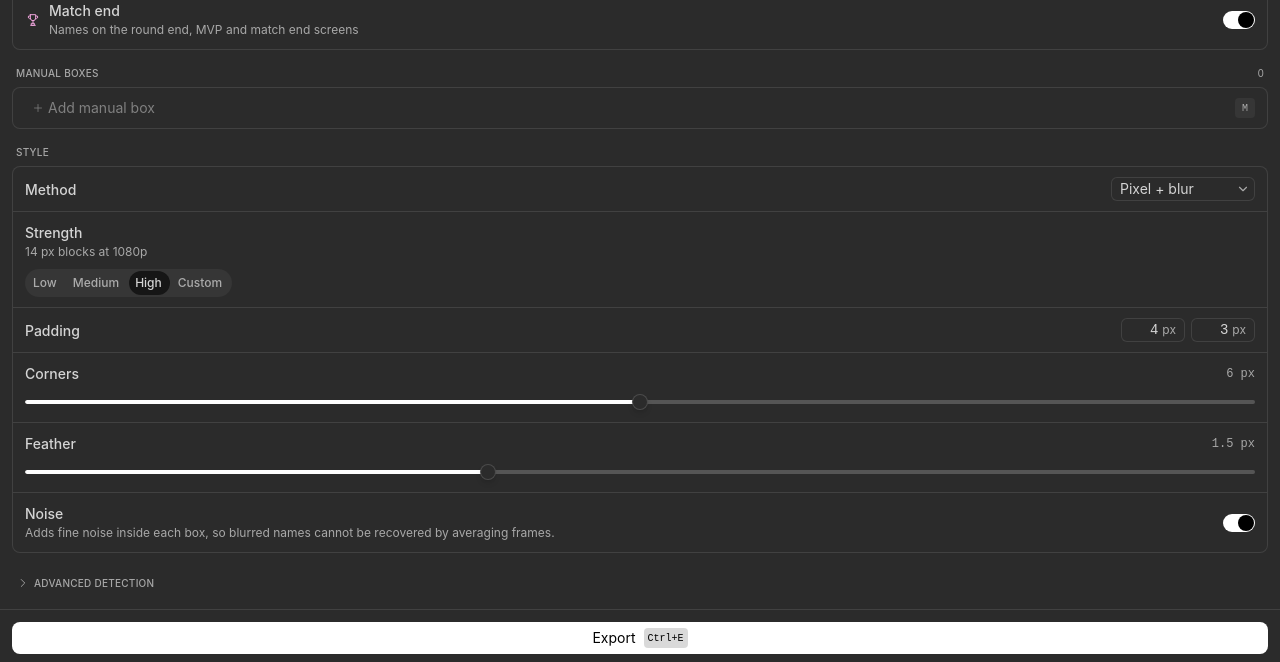
it: inspector › compares files nobody changed with the app defaults
(page scrolled)
expect the heading "Manual boxes" is shown: met, box [16, 66, 99, 81]
Click the switch below "1.5 px" at x=1239, y=522, box [1223, 514, 1255, 532]
(page scrolled)
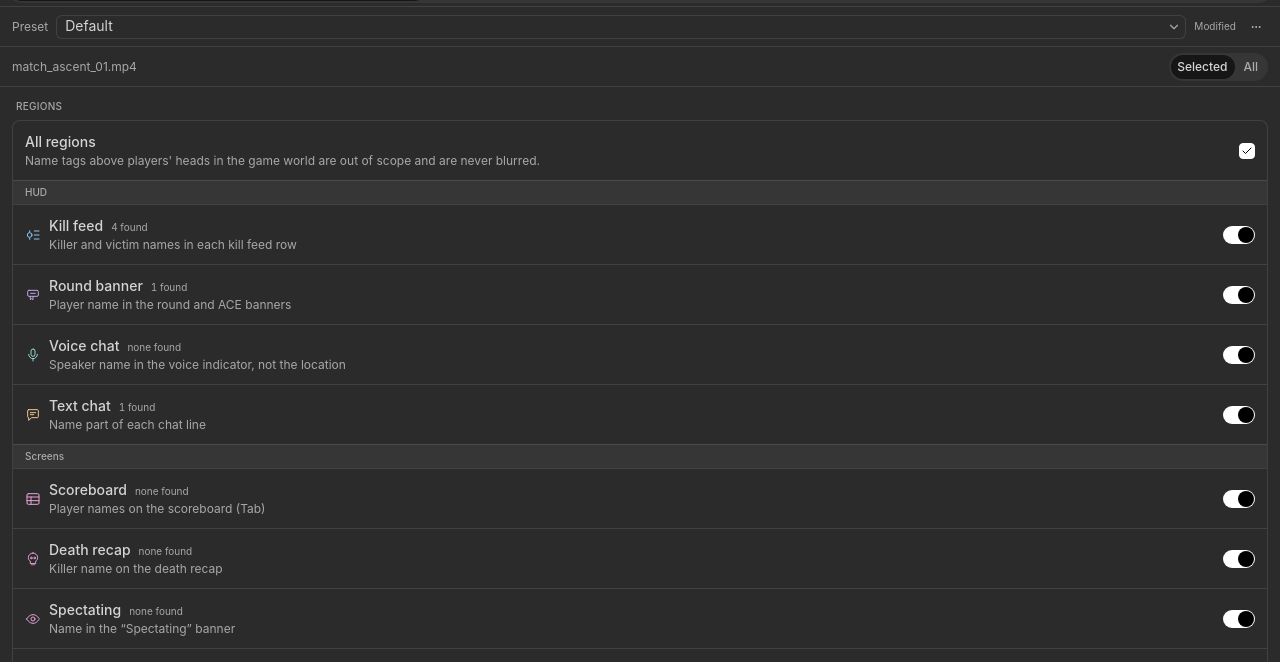
expect the text "Modified" is shown: met, box [1194, 19, 1236, 34]
Press Enter in the button named "Preset actions", box [1244, 14, 1268, 38]
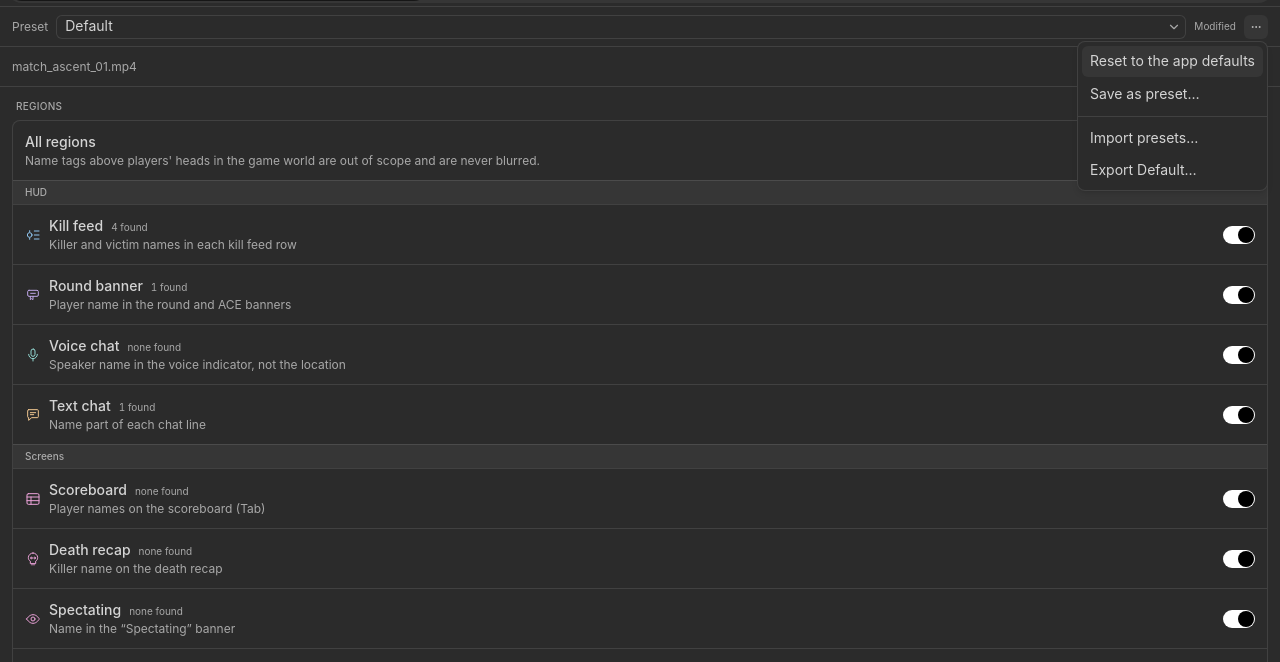
Click the menu item "Reset to the app defaults" at x=1172, y=61, box [1082, 46, 1263, 77]
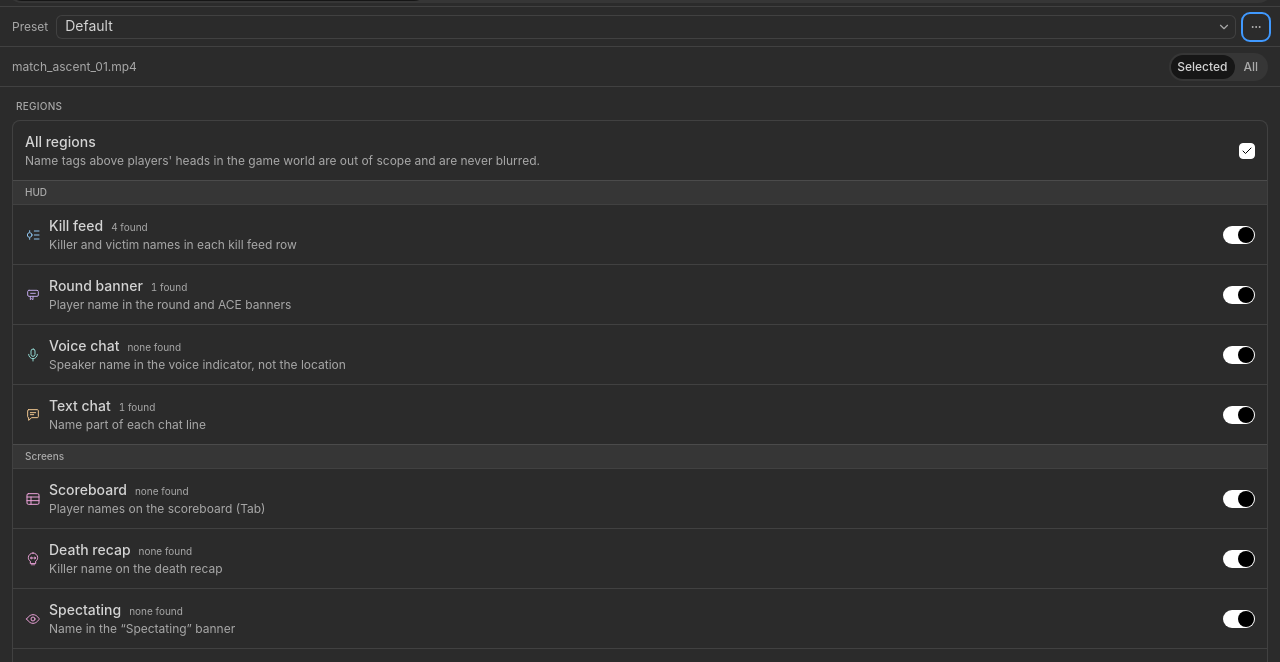
expect the text with test id "preset-modified" is gone: met
